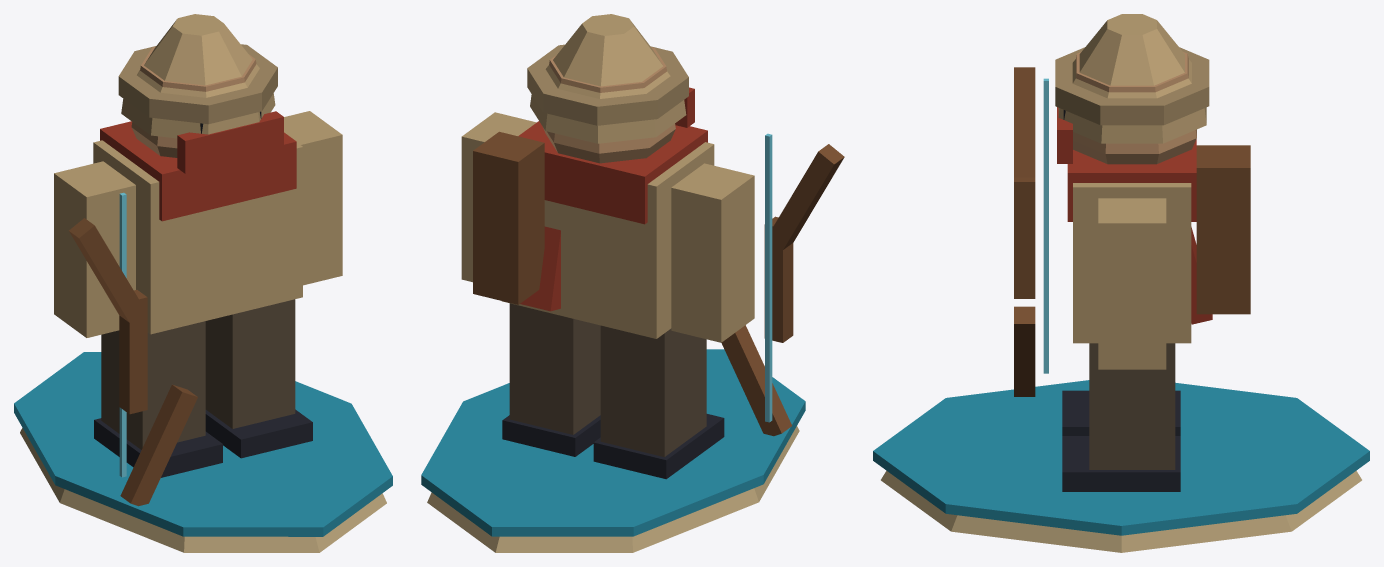
The model's file is unit_ranger.glb.
3 views of the same model, side by side, from view 1: azimuth 30°, elevation 25°; view 2: azimuth 150°, elevation 25°; view 3: azimuth 270°, elevation 25° (orthographic). The views are drawn at different scales.
Parts seen in each view (by area): view 1: body, arm_l, leg_r, leg_l, arm_r; view 2: body, arm_l, leg_l, leg_r, arm_r; view 3: body, leg_r, arm_r, arm_l, leg_l.
Part boxes in pixels (x1,y1,x2,y2): body: [14, 14, 392, 552]; arm_l: [54, 161, 197, 506]; leg_r: [205, 299, 312, 458]; leg_l: [94, 321, 222, 477]; arm_r: [284, 111, 342, 285]; body: [421, 14, 805, 552]; arm_l: [671, 133, 844, 436]; leg_l: [593, 325, 724, 479]; leg_r: [502, 303, 600, 456]; arm_r: [461, 112, 536, 282]; body: [873, 14, 1369, 552]; leg_r: [1062, 343, 1180, 491]; arm_r: [1098, 198, 1166, 369]; arm_l: [1014, 67, 1048, 396]; leg_l: [1062, 390, 1180, 435].
Bounding box in the file's own units: 0.7226 × 0.945 × 0.924.
